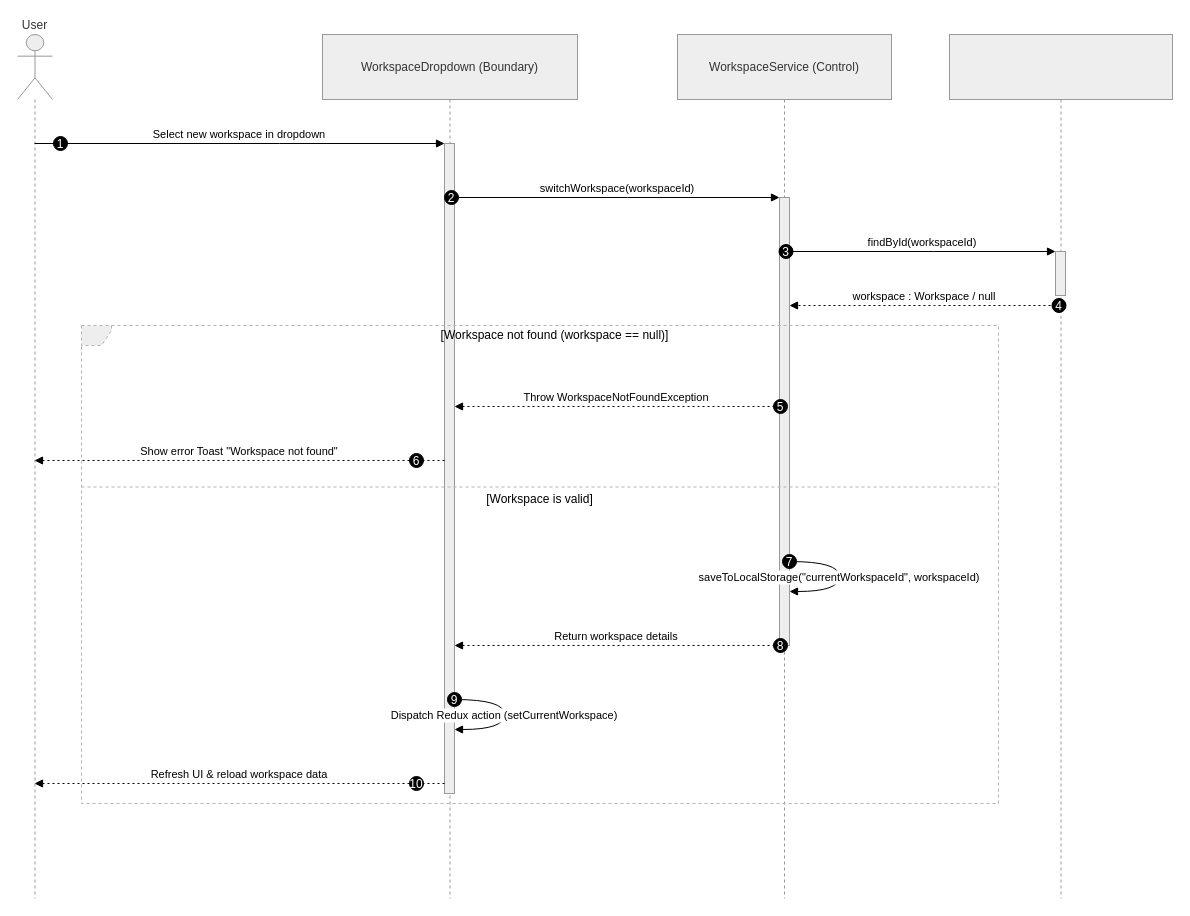
Image size: 1190x916. Some labels were removed from this diagram. Each missing label, with the box of its shape:
alt: (80, 324, 998, 804)
WorkspaceRepository (Repo): (948, 34, 1172, 898)
